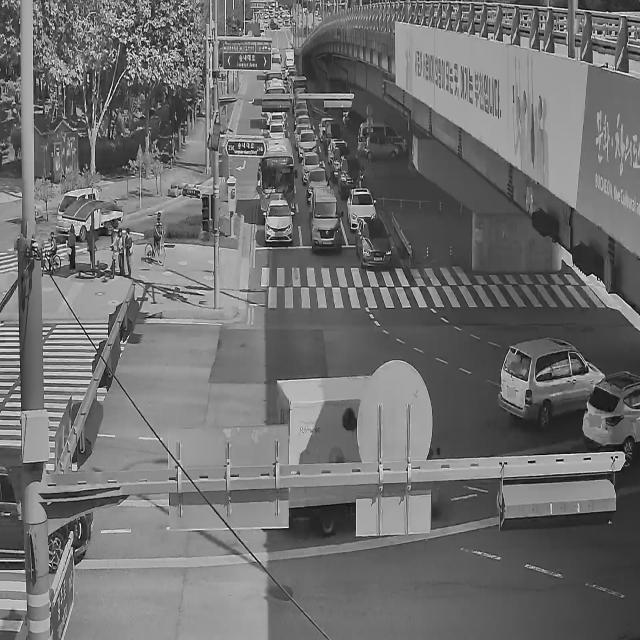Bus: (255, 127, 298, 218)
Car: (0, 403, 118, 578), (498, 336, 605, 429), (582, 370, 640, 463), (310, 185, 344, 255), (355, 218, 392, 269), (338, 152, 369, 208), (346, 187, 377, 232), (263, 198, 293, 243), (365, 132, 400, 161), (326, 137, 346, 182), (307, 170, 330, 199), (304, 150, 320, 178), (296, 128, 314, 152)
Truck: (274, 351, 448, 538), (55, 183, 125, 234)
